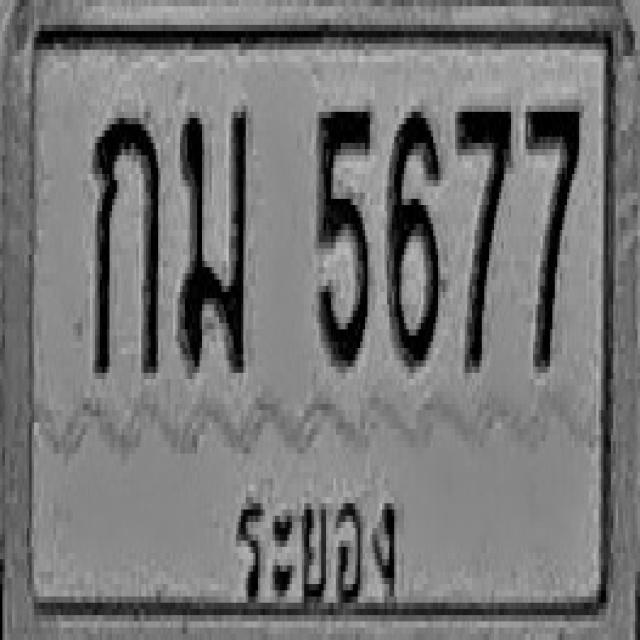10GorGai: (92, 109, 160, 376)
42MorMa: (178, 103, 248, 370)
5: (316, 102, 372, 364)
6: (387, 102, 440, 364)
7: (455, 100, 511, 366), (526, 100, 579, 366)
Rayong: (214, 452, 417, 635)
